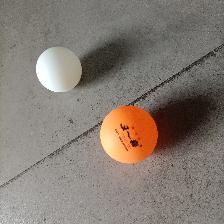WhiteBall: (34, 45, 82, 93)
YellowBall: (98, 105, 159, 163)
